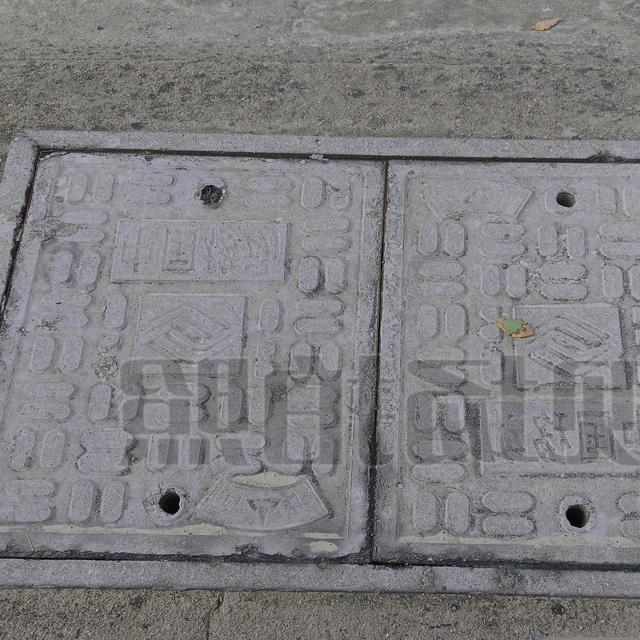good: (0, 129, 640, 601)
